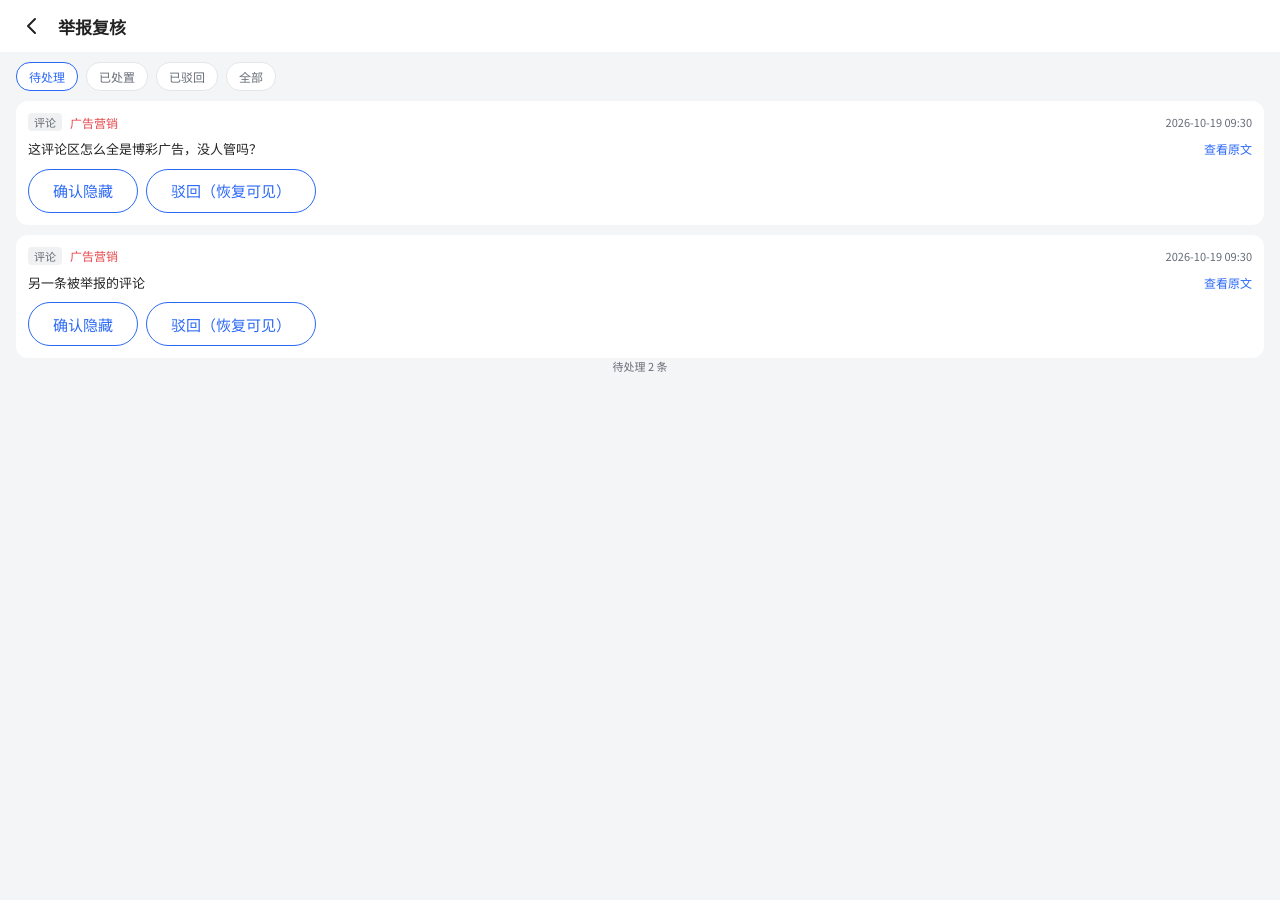
Test case: AdminReports · 处置 › 待处理队列里处理完就移出（下一个人不该重复看）
expect the number of list items with class "rp__item" is 2: met, box [16,101,1264,224]; [16,234,1264,358]
Click the button "驳回（恢复可见）" below "这评论区怎么全是博彩广告，没人管吗？" at [231, 190], box [146,168,316,212]
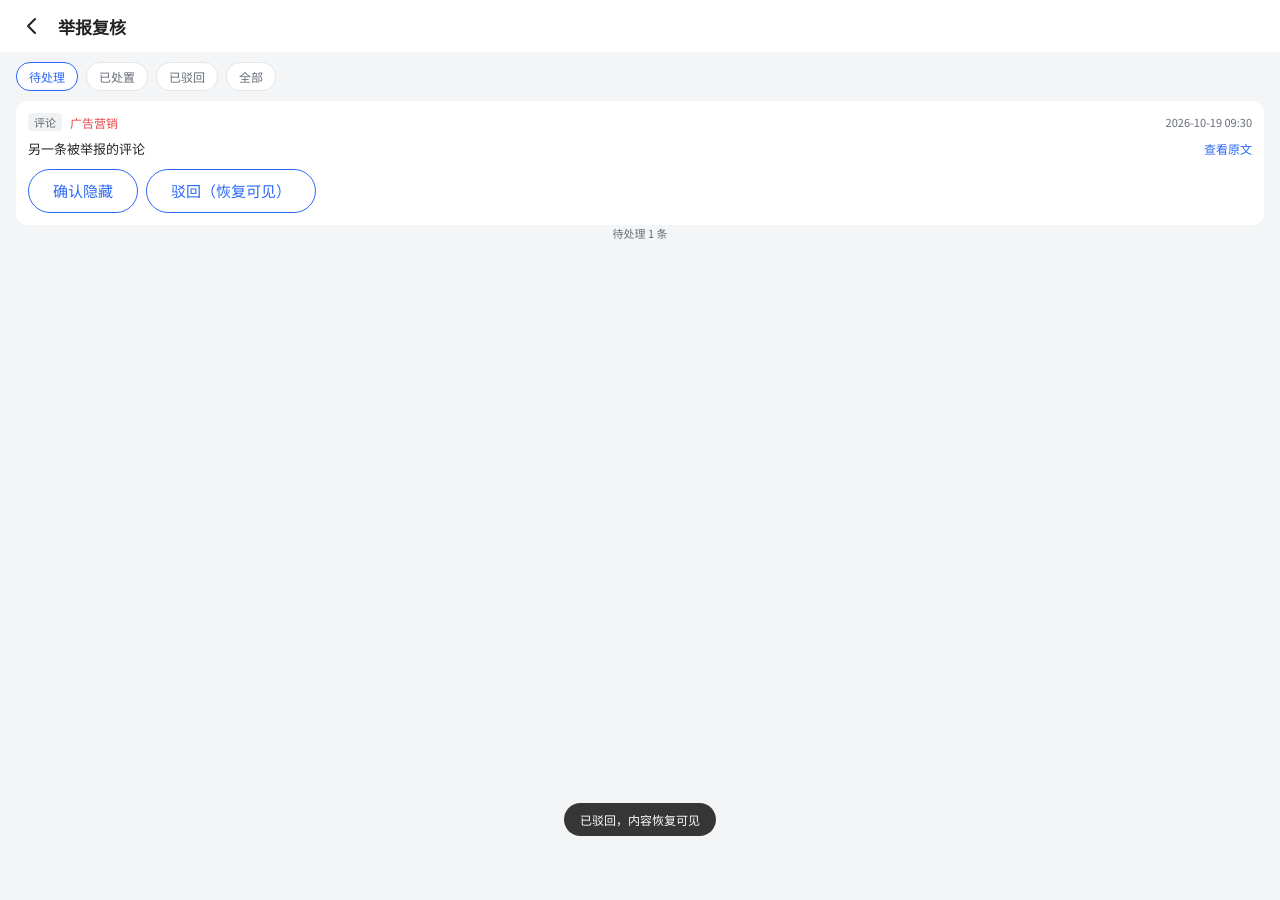
expect the text "另一条被举报的评论" is shown: met, box [28,139,145,158]
expect the number of list items with class "rp__item" is 1: met, box [16,101,1264,224]
expect the text "这评论区怎么全是博彩广告" is gone: met
